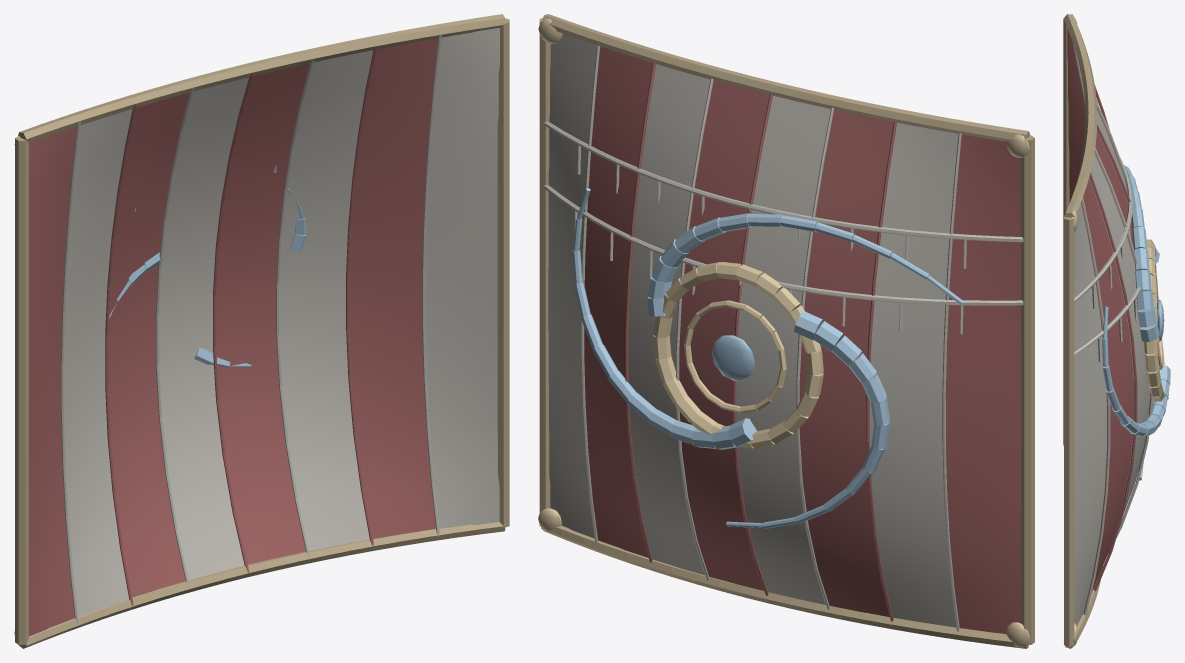
Rendered from swift_sail.gltf.
3 renders of one model, left to right at view 1: azimuth 30°, elevation 25°; view 2: azimuth 150°, elevation 25°; view 3: azimuth 270°, elevation 25°, orthographic. The views are drawn at different scales.
Parts seen in each view (by area): view 1: Body; view 2: Body; view 3: Body.
Part boxes in pixels (x1,y1,x2,y2): Body: (14,14,509,648); Body: (538,14,1034,648); Body: (1063,14,1170,648).
Size of the model in its own units: 2.05 by 2.05 by 0.4564.
